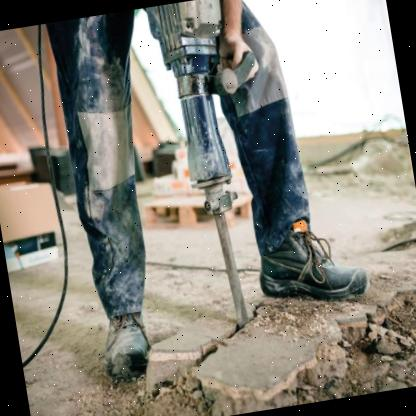bota: (252, 215, 375, 315), (93, 308, 158, 392)
